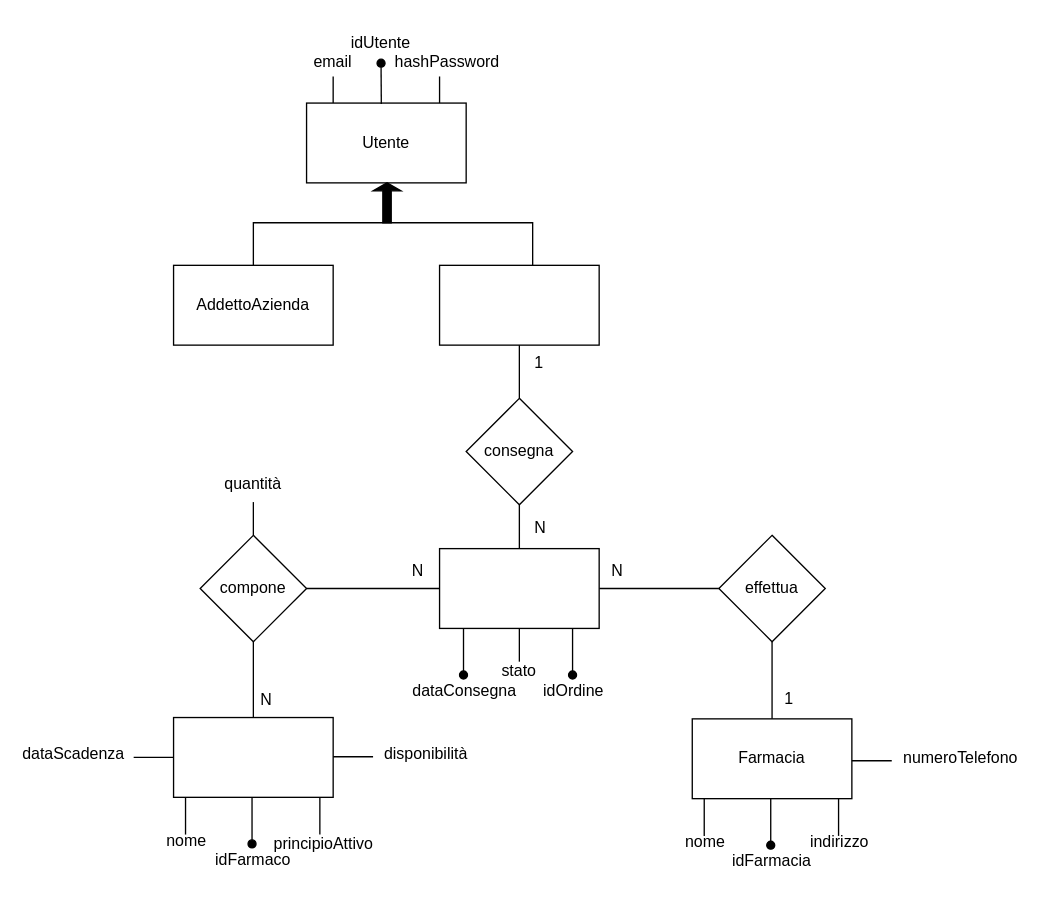
Image size: 1041x903. Some labels were removed from this diagram. The centre of each missing label's shape, as x and y in pixels:
Corriere: the point at 518,304
Farmaco: the point at 252,756
Ordine: the point at 518,587
